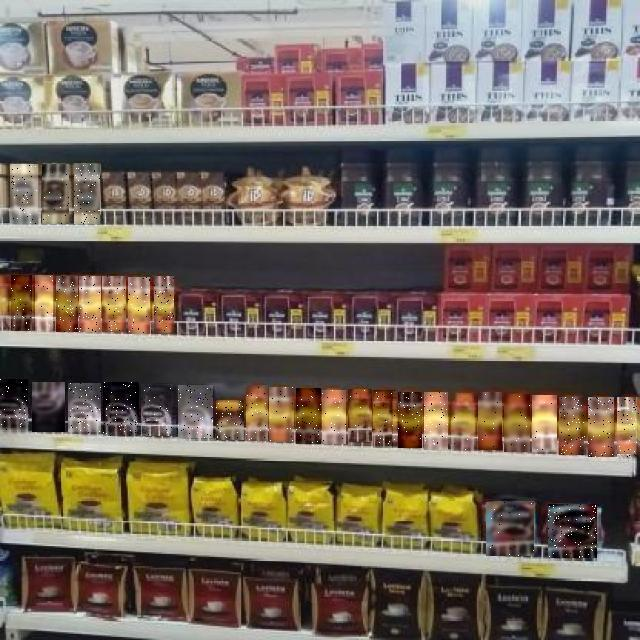Coffee: (548, 505, 597, 559), (486, 502, 534, 556), (103, 382, 139, 436), (178, 385, 213, 438), (142, 384, 176, 436), (10, 164, 38, 224), (32, 382, 65, 432), (68, 384, 101, 434), (42, 164, 69, 224), (74, 164, 100, 224), (589, 397, 615, 457), (505, 394, 531, 452), (560, 397, 586, 455), (0, 380, 28, 432), (532, 396, 557, 454), (296, 388, 321, 444), (424, 392, 448, 450), (478, 393, 502, 451), (102, 277, 126, 333), (348, 390, 372, 446), (398, 392, 422, 448), (270, 387, 294, 442), (618, 398, 640, 458), (322, 390, 346, 444), (374, 390, 396, 448), (128, 277, 150, 334), (452, 393, 474, 450), (79, 276, 101, 332), (56, 276, 78, 332), (246, 385, 268, 441), (11, 275, 32, 331), (154, 277, 174, 335), (216, 400, 244, 440), (35, 275, 53, 331)
